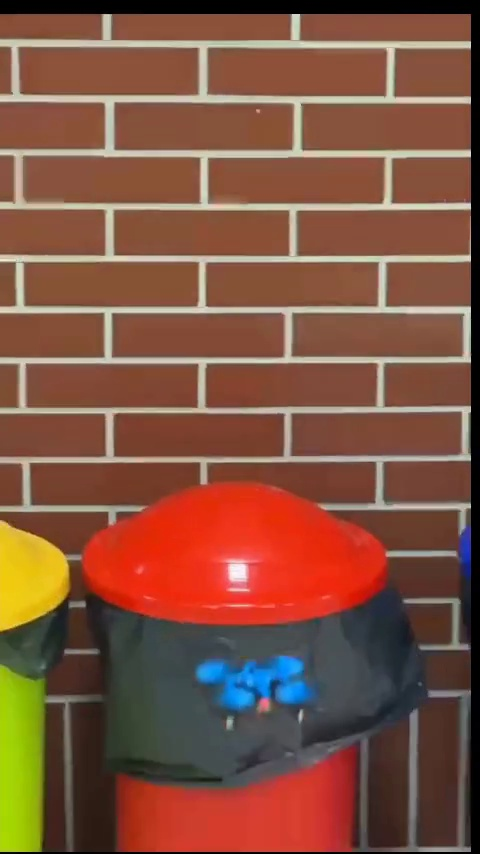drone: (192, 659, 320, 724)
